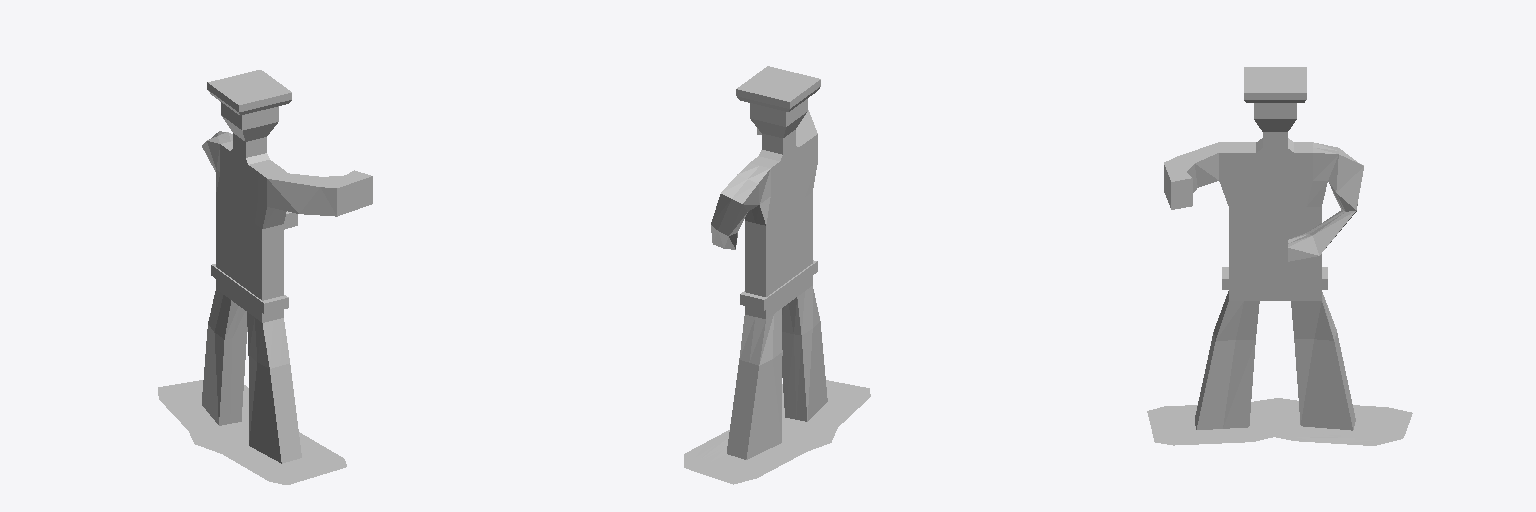
Rendered from SoldierDefault.obj.
3 renders of one model, left to right at view 1: azimuth 30°, elevation 25°; view 2: azimuth 150°, elevation 25°; view 3: azimuth 270°, elevation 25°, orthographic.
Parts seen in each view (by area): view 1: pPlane1; view 2: pPlane1; view 3: pPlane1.
Part boxes in pixels (bbox=[...]): pPlane1: bbox=[158, 70, 372, 484]; pPlane1: bbox=[684, 66, 870, 484]; pPlane1: bbox=[1147, 67, 1412, 445].
Size of the model in its own units: 6.88 by 18.13 by 12.67.